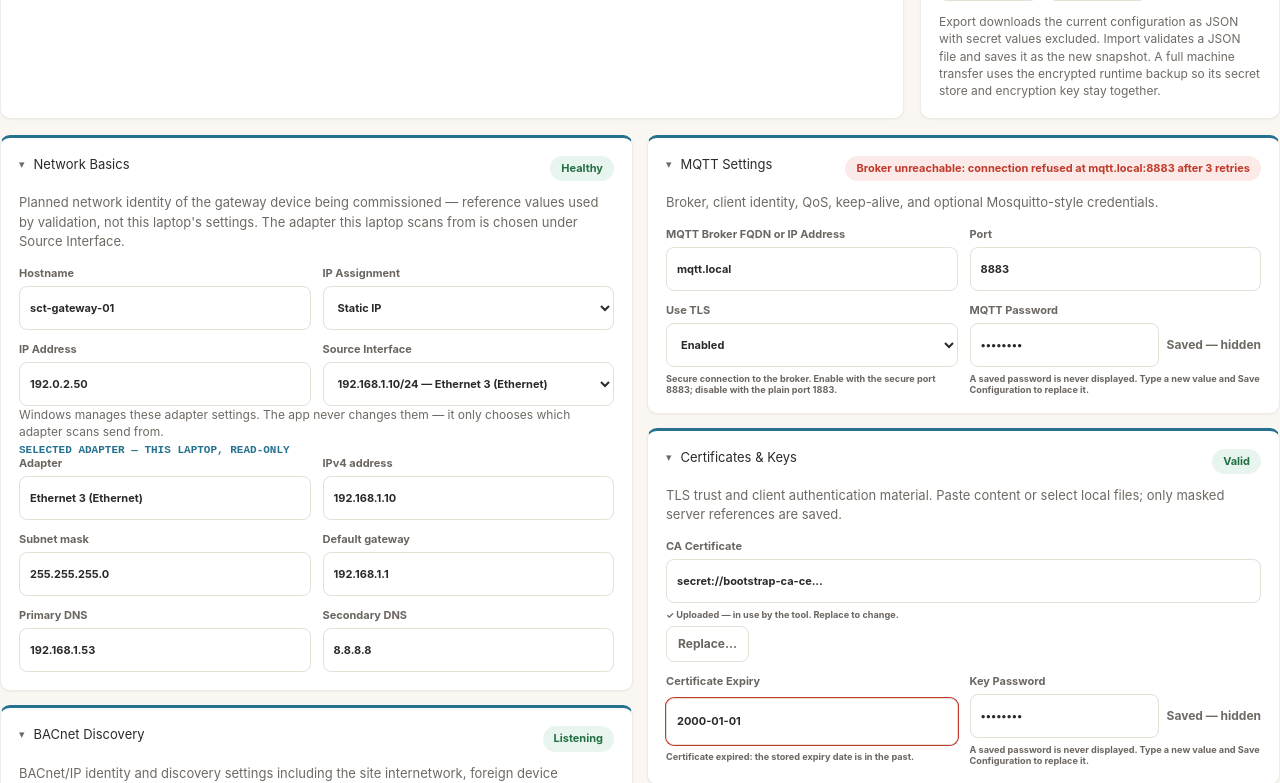
Test: ConfigurationPage › shows the unsaved Source Interface note only while the draft differs from the saved value
(page scrolled)
Select "10.20.30.7/24 — Ethernet 4 (Ethernet)" in the dropdown labelled "Source Interface": coordinates (468, 384) [322,362,614,406]
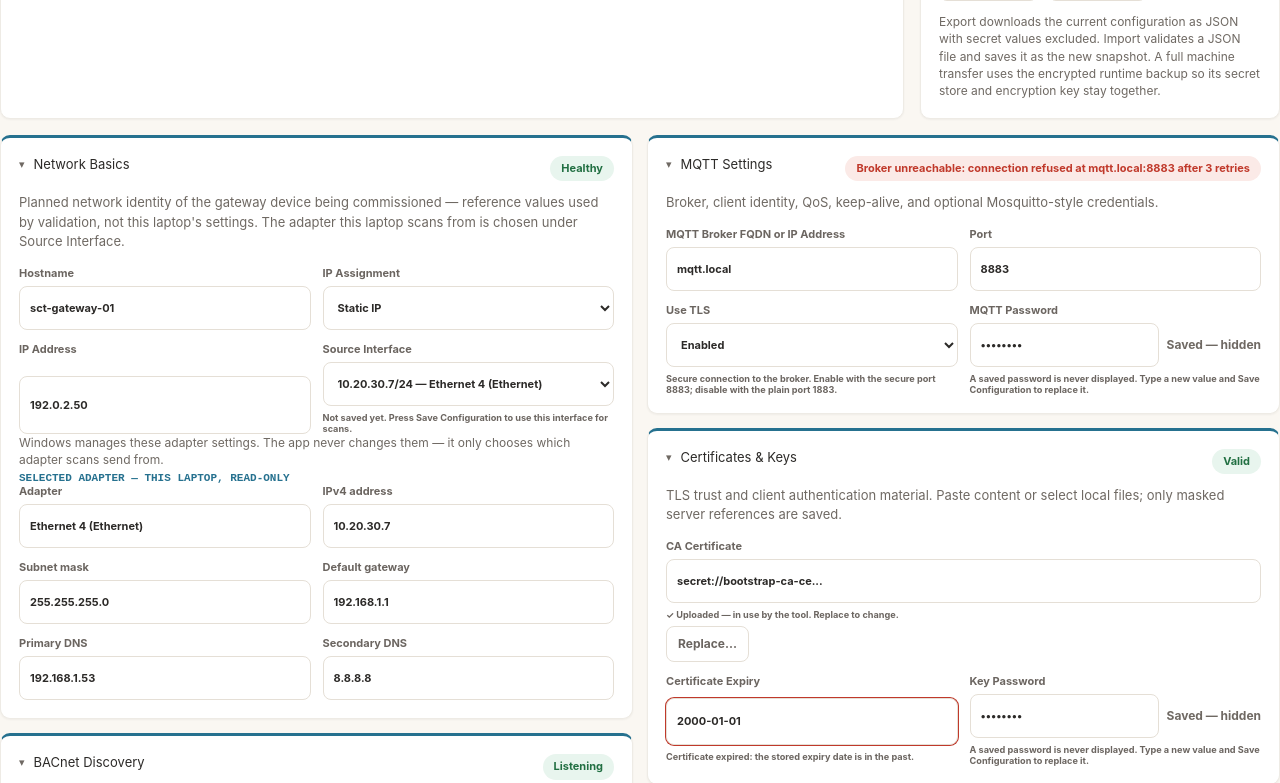
Now the message shows "Not saved yet", box [322,412,608,434]
Select "192.168.1.10/24 — Ethernet 3 (Ethernet)" in the 3rd dropdown: coordinates (468, 384) [322,362,614,406]
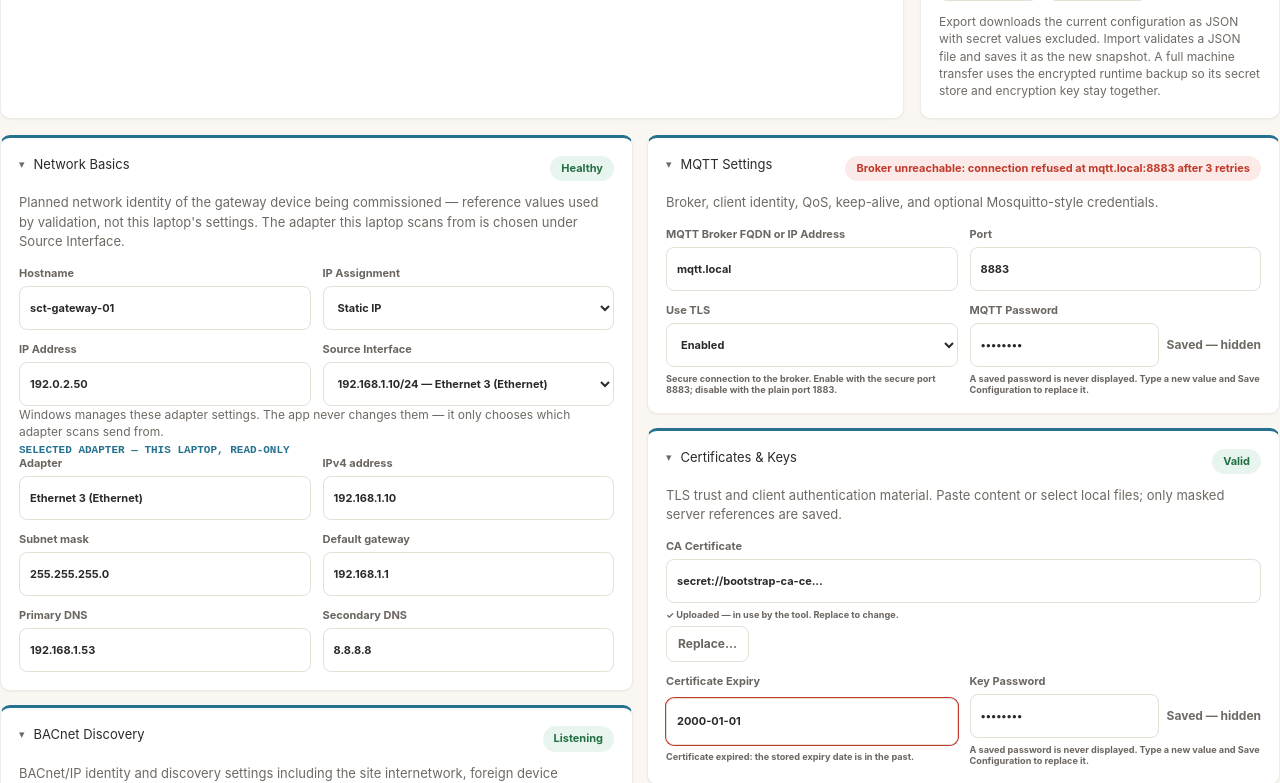
Now the message "Not saved yet. Press Save Configuration to use this interface for scans." is gone
